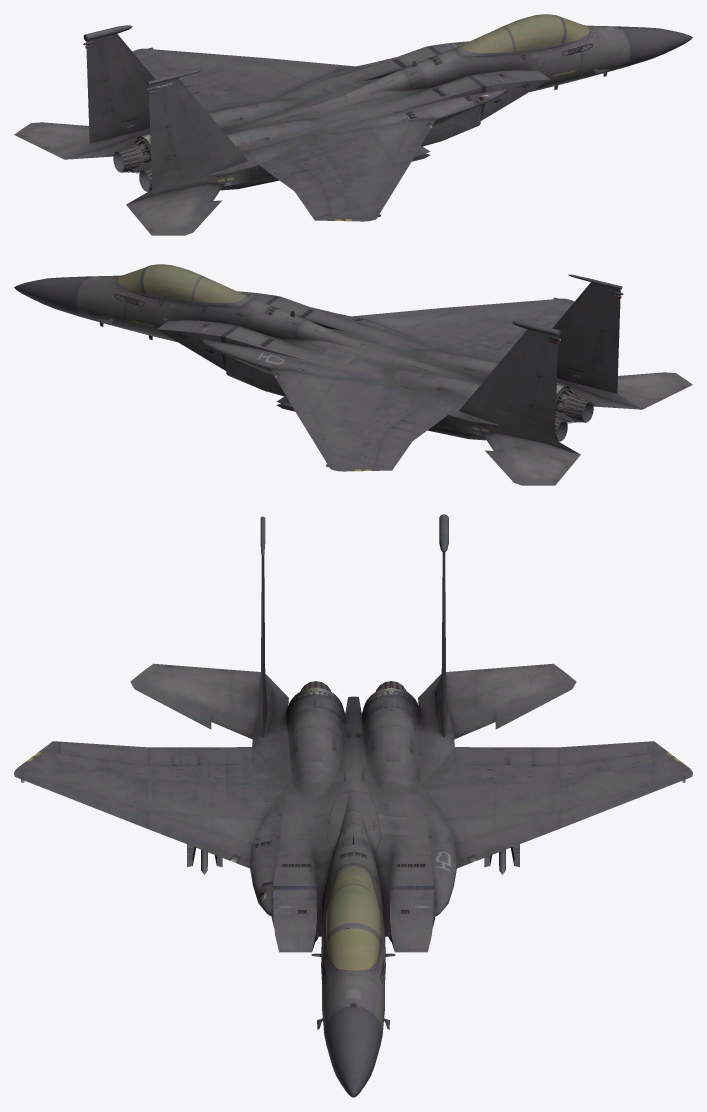
The model's file is EnemyPlane.fbx.
The picture shows the model from 3 angles, top to bottom: view 1: azimuth 30°, elevation 25°; view 2: azimuth 150°, elevation 25°; view 3: azimuth 270°, elevation 25°; orthographic projection. The views are drawn at different scales.
Visible parts, largest first — view 1: F-15C_Eagle; view 2: F-15C_Eagle; view 3: F-15C_Eagle.
Part boxes in pixels (x1,y1,x2,y2): F-15C_Eagle: (14, 14, 692, 235); F-15C_Eagle: (14, 264, 692, 485); F-15C_Eagle: (14, 514, 692, 1097).
Bounding box in the file's own units: 1947 × 435 × 1293.
Materials: 4 (4 with a texture image).
